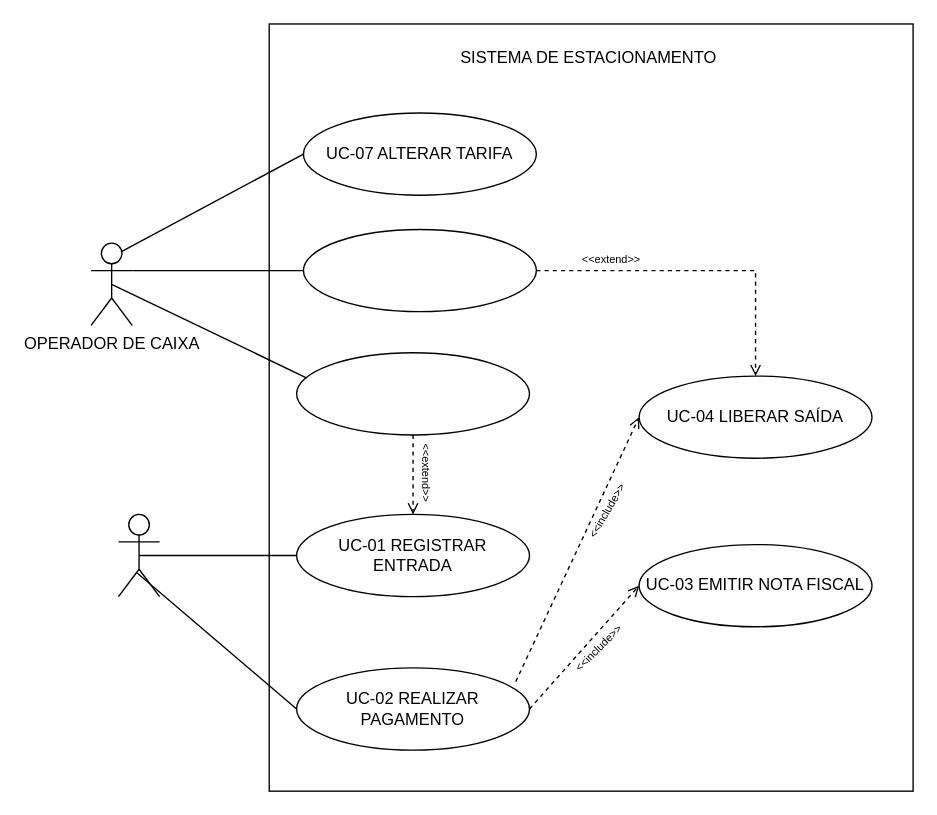
Image size: 937x815. Some labels were removed from this diagram. The shapes that lost their labels are listed below. From the top down, each one's centre as x and y in pixels, then its label:
[419,270]: UC-06 LIBERAR SAÍDA MANUALMENTE
[412,393]: UC-05 REGISTRAR ENTRADA MANUALMENTE
[138,555]: MOTORISTA
